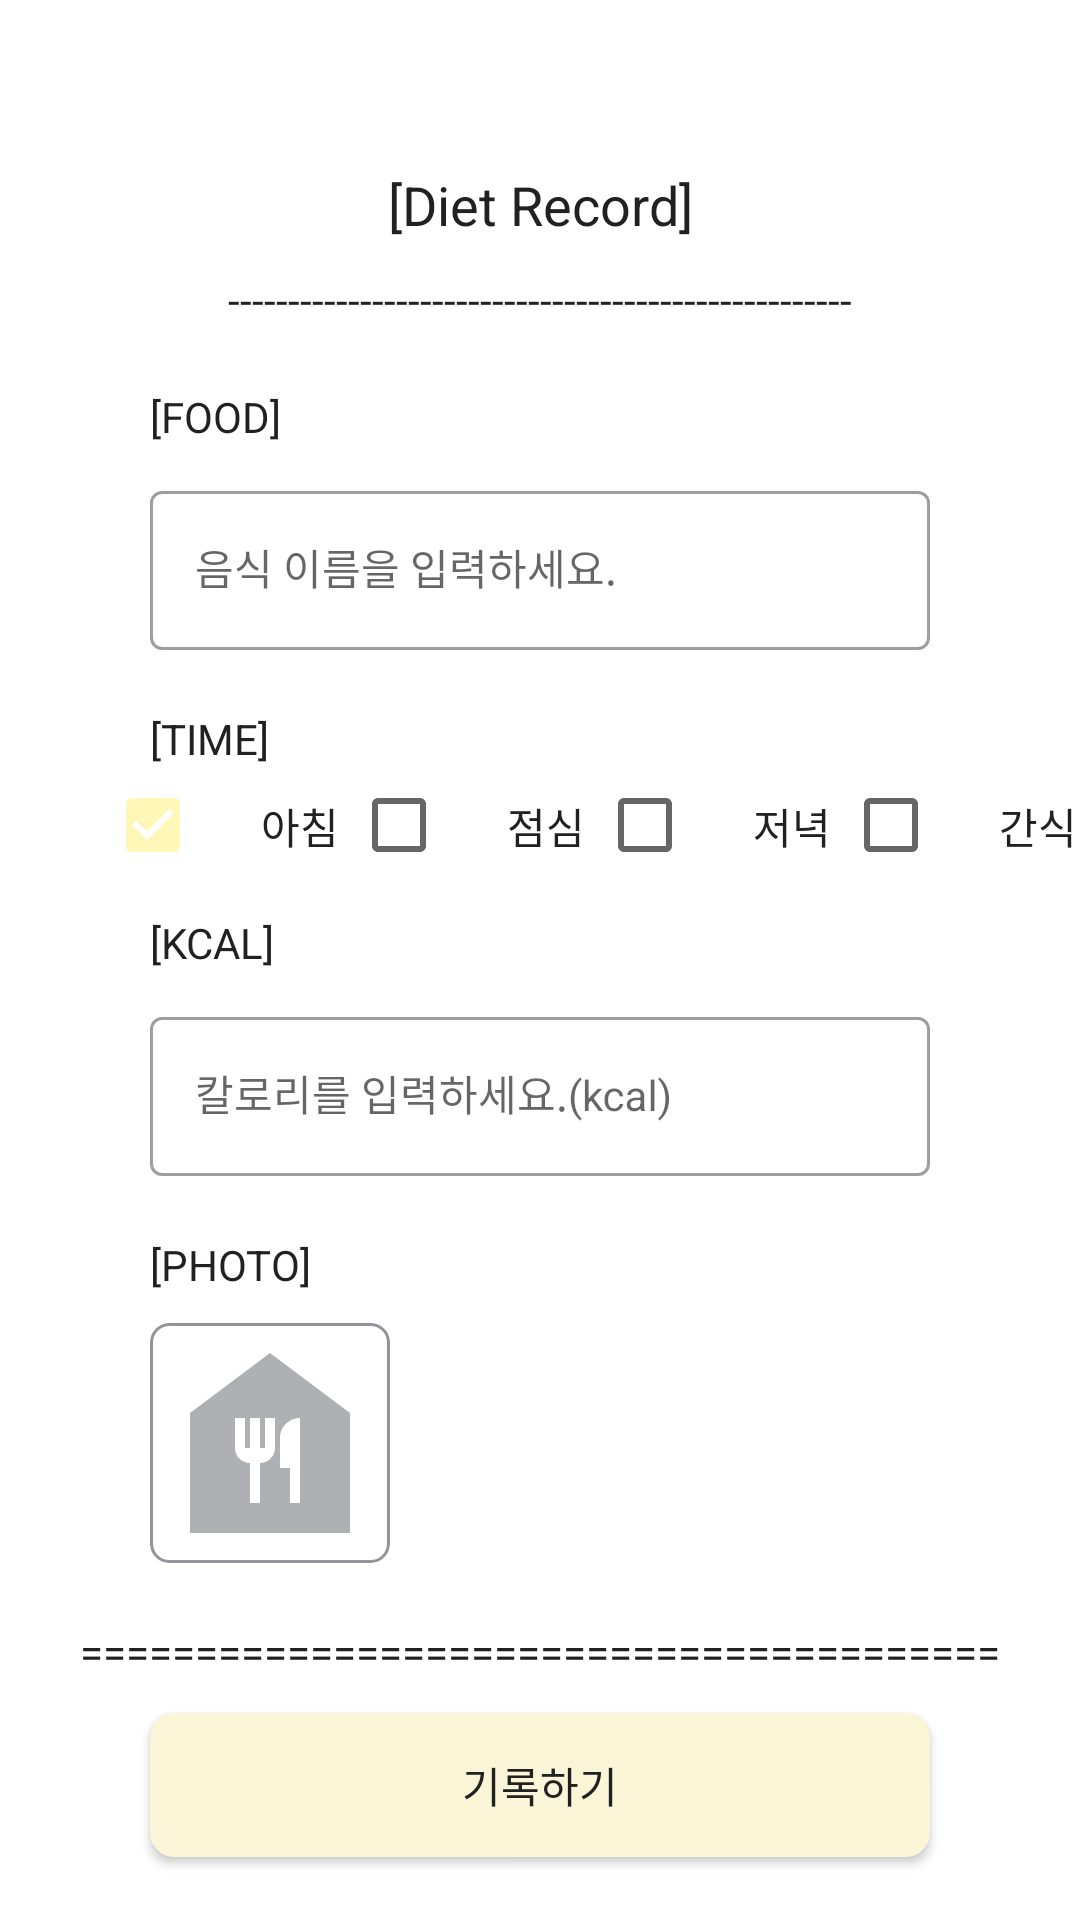

Icon click points for this 1080×1920 phone screenshot, format point (x, y):
record food: point (270, 1443)
